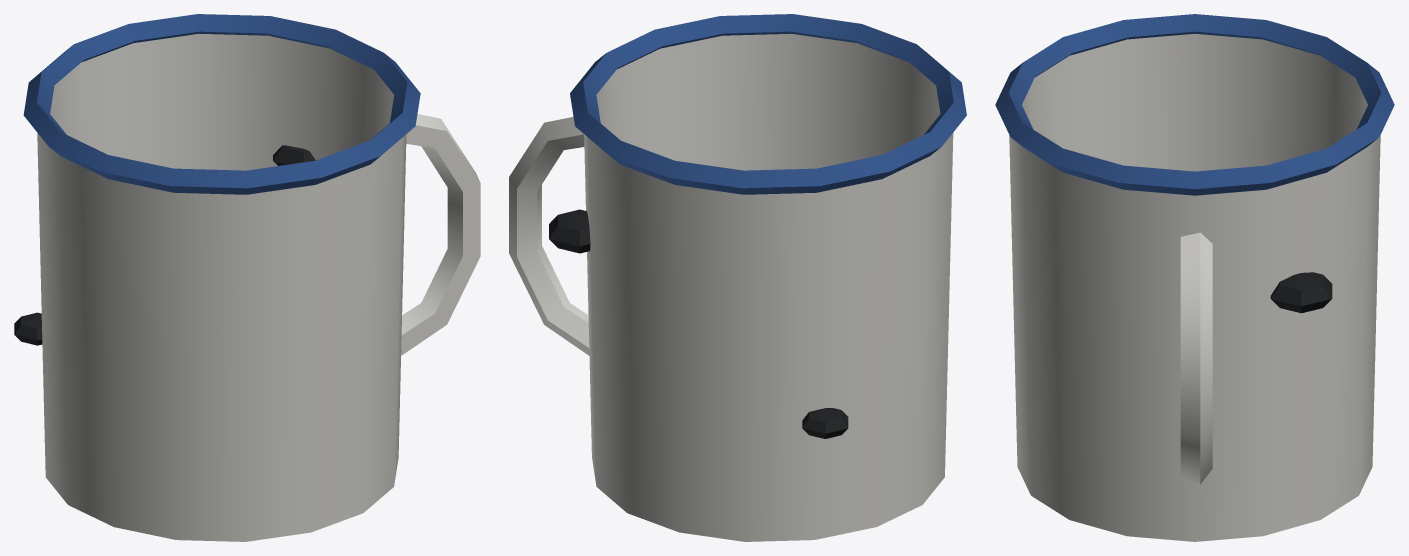
The model's file is tpl_cucina_mug_chip.glb.
The picture shows the model from 3 angles, left to right: view 1: azimuth 30°, elevation 25°; view 2: azimuth 150°, elevation 25°; view 3: azimuth 270°, elevation 25°; orthographic projection.
Visible parts, largest first — view 1: tpl_cucina_mug_chip; view 2: tpl_cucina_mug_chip; view 3: tpl_cucina_mug_chip.
Boxes of the visible parts, x1,y1,x2,y2 form: tpl_cucina_mug_chip: [14, 14, 480, 541]; tpl_cucina_mug_chip: [509, 14, 966, 541]; tpl_cucina_mug_chip: [995, 14, 1394, 541].
Bounding box in the file's own units: 0.1116 × 0.093 × 0.09.
